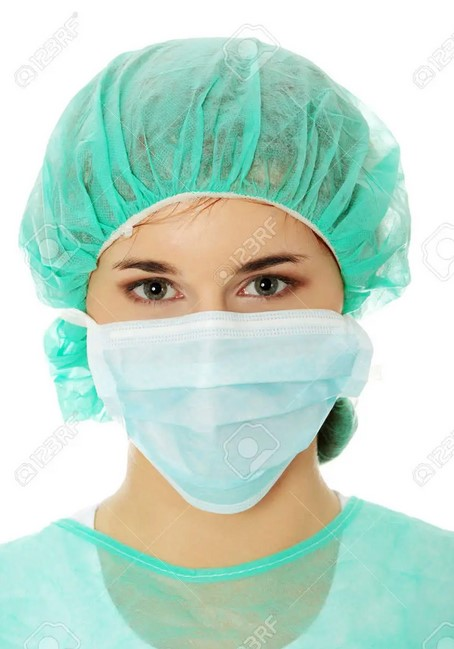with_mask_and_cap: (59, 77, 395, 519)
